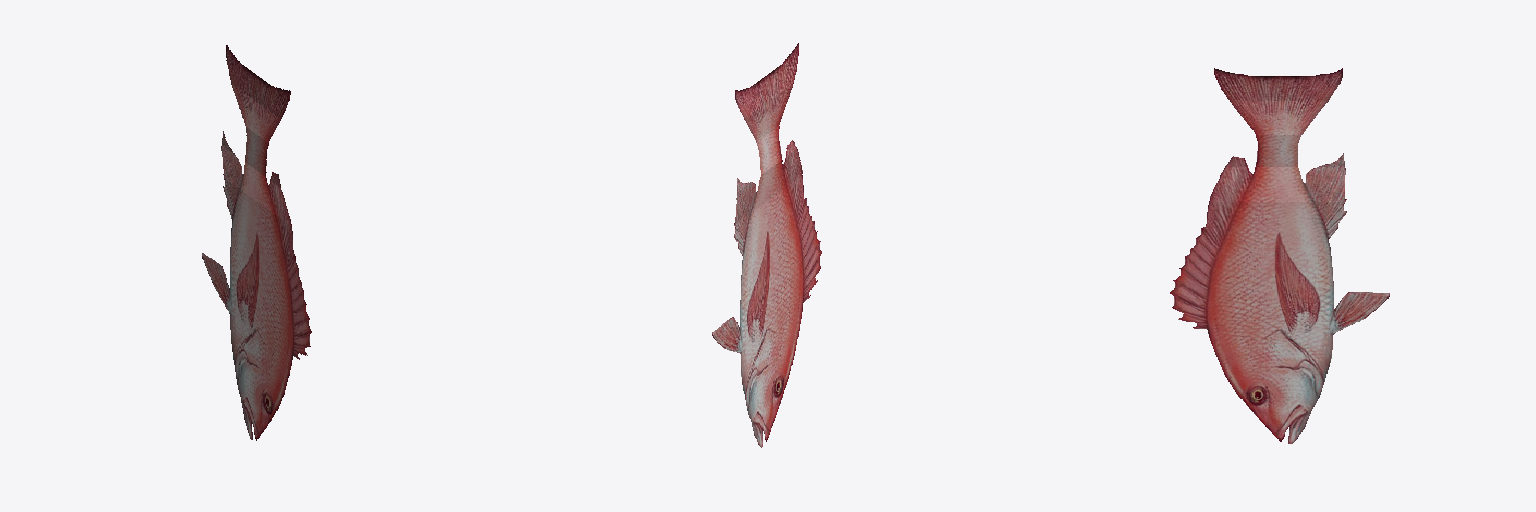
3 views of the same model, side by side, from view 1: azimuth 30°, elevation 25°; view 2: azimuth 150°, elevation 25°; view 3: azimuth 270°, elevation 25° (orthographic).
Bounding box in the file's own units: 0.022 × 2 × 1.06.
Materials: 1 (1 with a texture image).